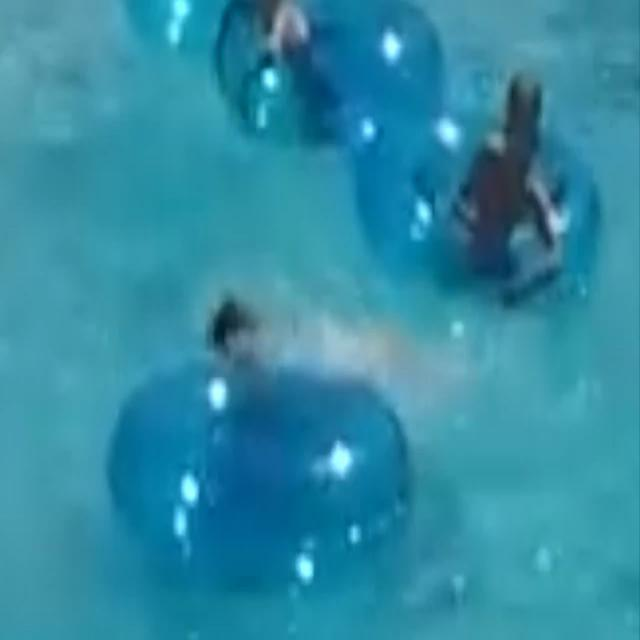drowning: (193, 246, 437, 412)
